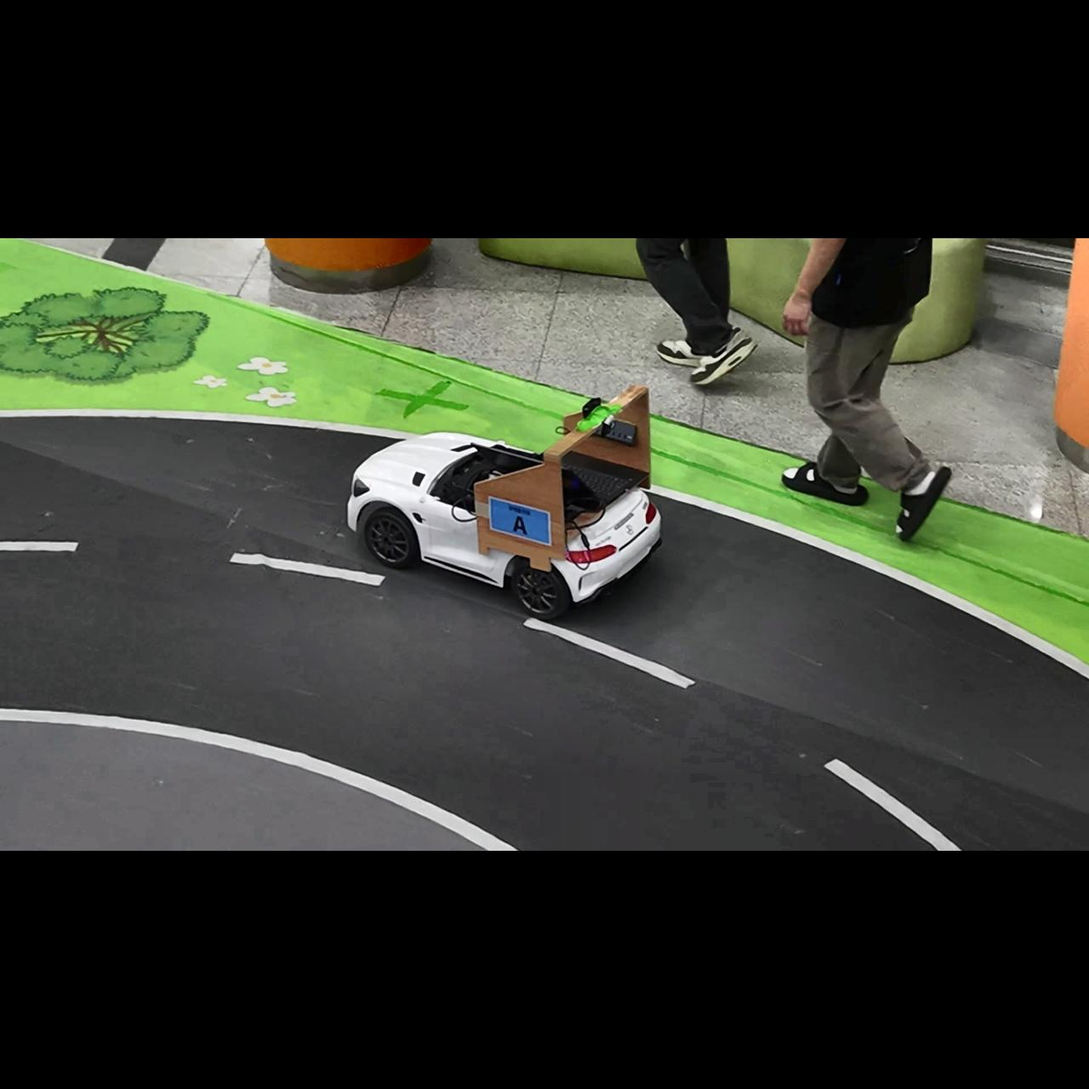broken_line: (823, 758, 962, 850), (523, 618, 696, 689), (229, 552, 386, 586), (0, 541, 80, 552)
